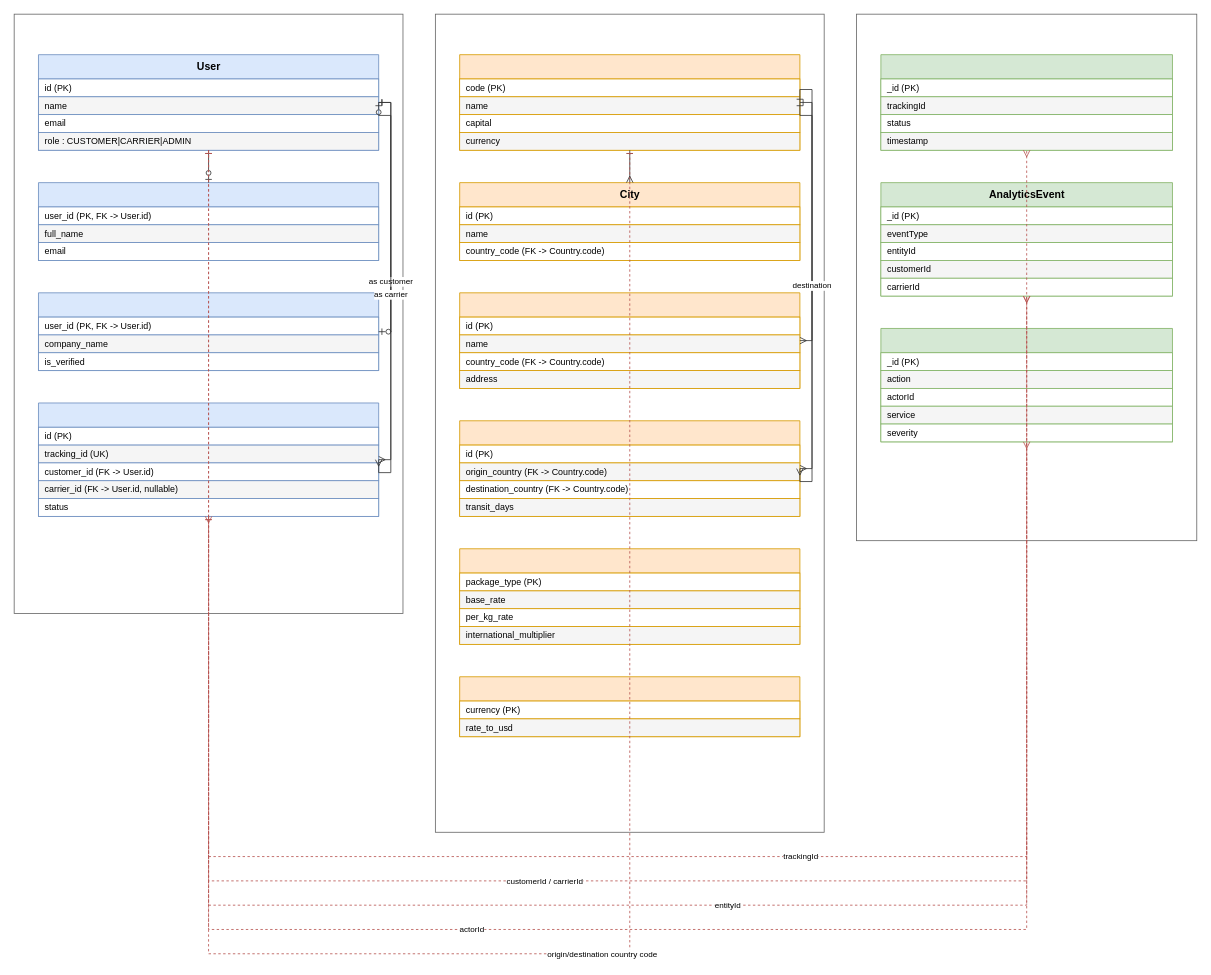
Some shapes in this 1211 by 975 pixel diagram are drawn without their labels. The box of each missing label's shape, as (x1, y1, x2, y2) in pixels:
AuditLog: (880, 328, 1172, 442)
Carrier: (38, 292, 379, 371)
Country: (459, 54, 800, 150)
CurrencyRate: (459, 676, 800, 737)
CustomerProfile: (38, 182, 379, 260)
DeliveryRoute: (459, 420, 800, 516)
MongoDB (tracking_db / crm_db / audit_db): (856, 13, 1197, 541)
MySQL (location_db / pricing_db): (435, 13, 824, 832)
PostgreSQL (auth_db / user_db / carrier_db / shipment_db): (13, 13, 403, 614)
PricingRule: (459, 548, 800, 644)
Shipment: (38, 402, 379, 516)
TrackingEvent: (880, 54, 1172, 150)
Warehouse: (459, 292, 800, 388)
